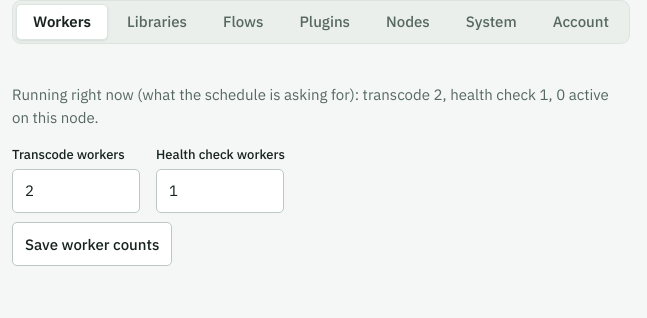
Test: Workers tab › refuses to save a cleared box, which is not a request for zero workers
Clear the field labelled "Transcode workers": (76, 191) top-left (12, 169), bottom-right (140, 213)
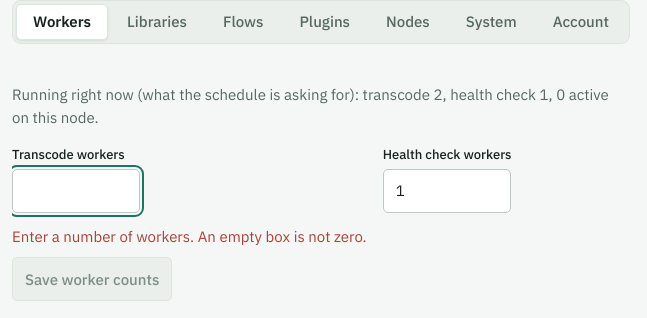
Expected: the text "Enter a number of workers. An empty box is not zero." is shown, top-left (12, 225), bottom-right (367, 248)
Expected: the button "Save worker counts" is disabled, top-left (12, 258), bottom-right (172, 302)
